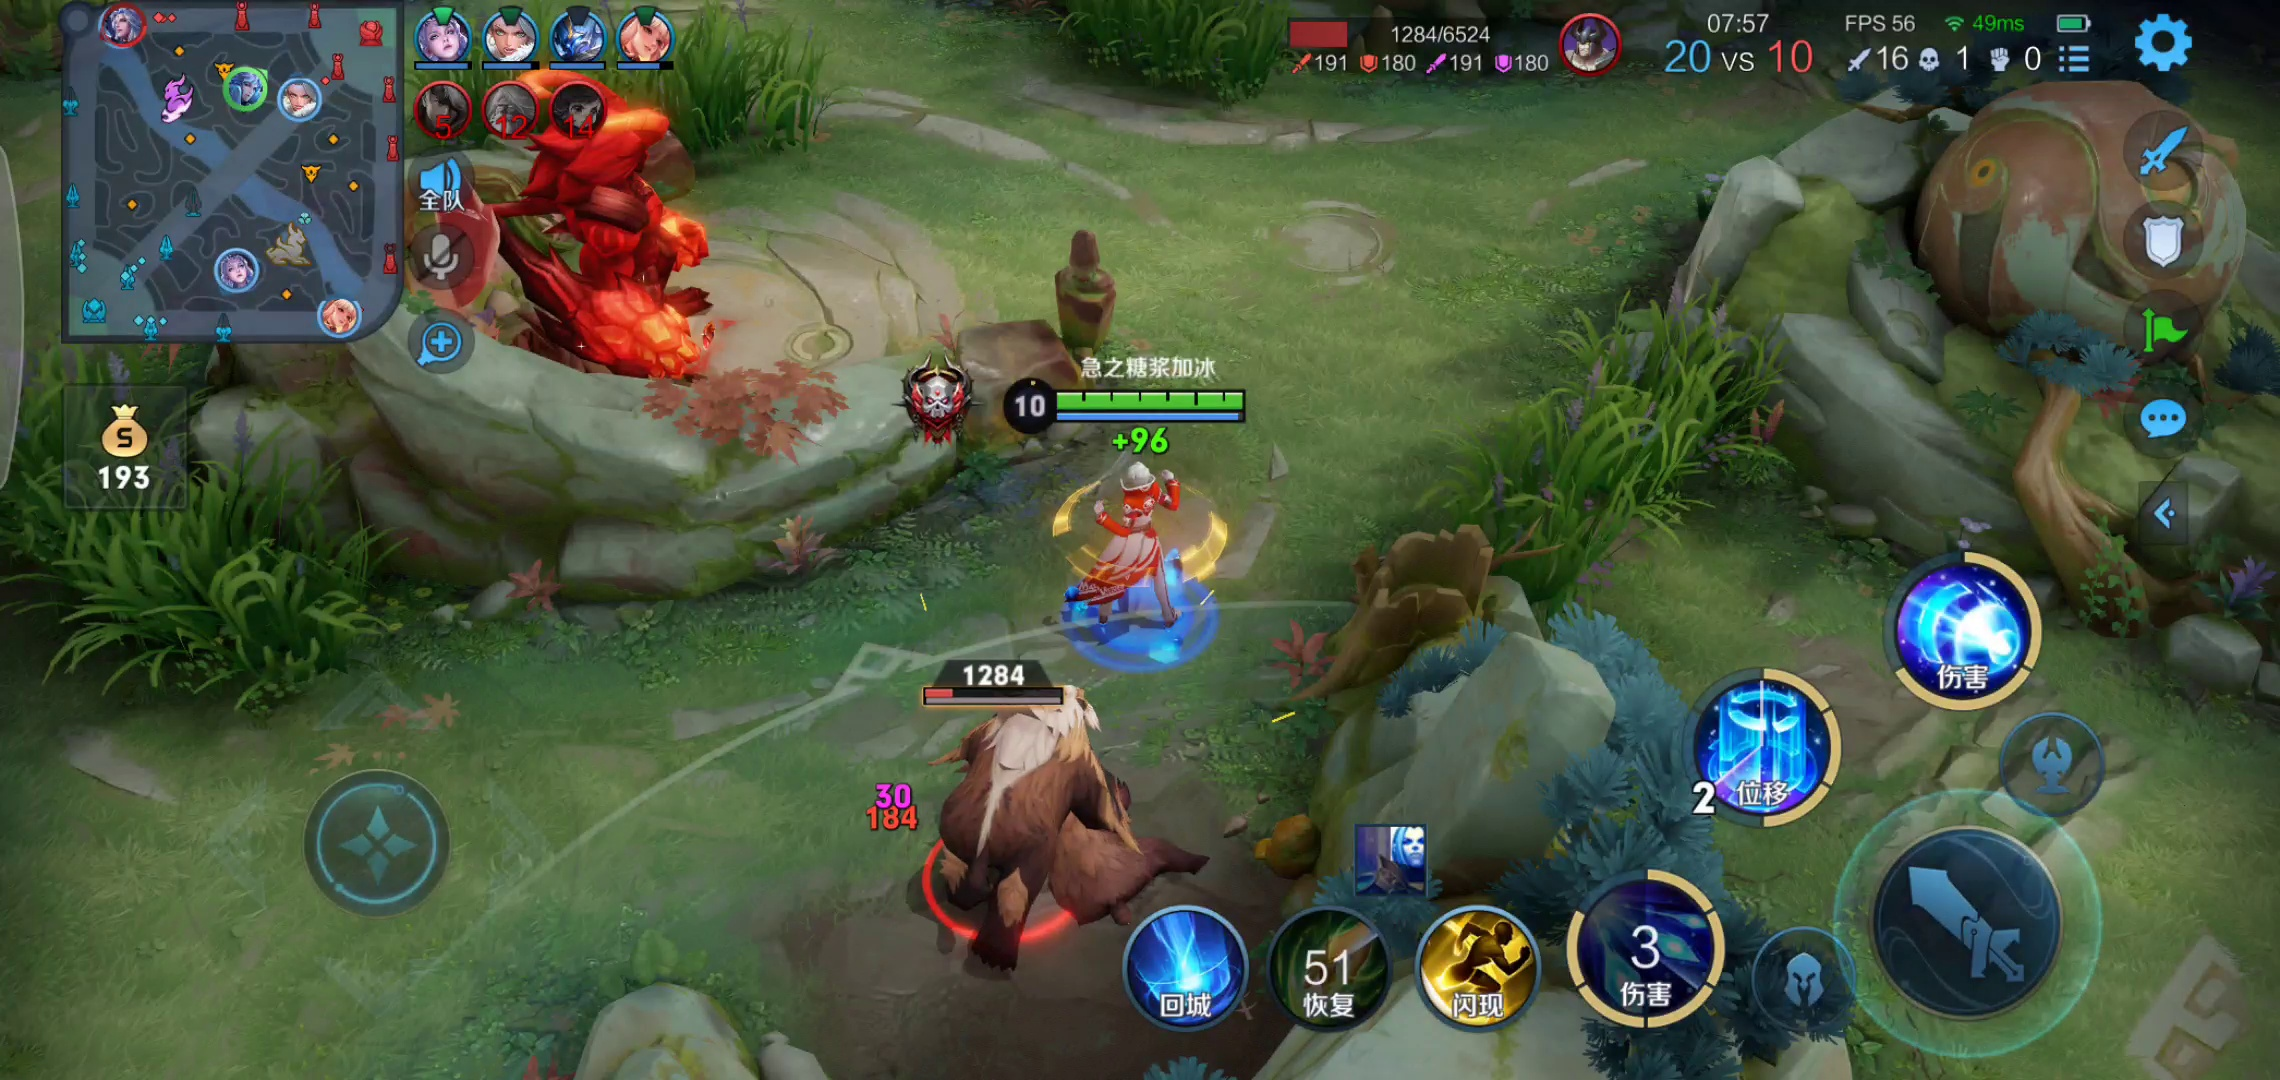buff: (457, 105, 731, 376)
grass: (4, 363, 371, 704), (1418, 304, 1790, 600), (487, 28, 839, 138), (1057, 1, 1280, 105)
hero: (1059, 467, 1207, 664)
wild_monster: (887, 677, 1179, 959)
